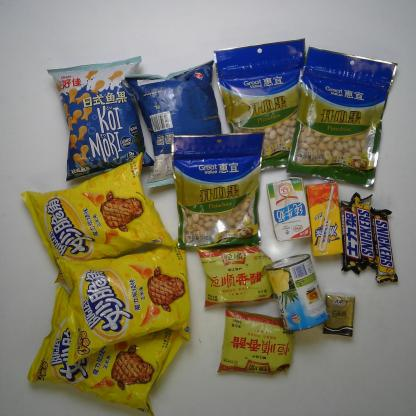Canned Food: (265, 254, 330, 332)
Chocolate: (368, 207, 400, 283), (352, 192, 378, 271), (340, 200, 361, 275)
Dried Fruit: (286, 46, 399, 189), (212, 39, 319, 176), (172, 132, 266, 249)
Drink: (304, 183, 343, 258)
Milk: (268, 177, 312, 242)
Puffed Food: (21, 152, 177, 284), (27, 287, 188, 413), (58, 234, 192, 365), (47, 56, 156, 181), (125, 60, 226, 188)
Seasoner: (216, 308, 294, 376), (198, 244, 278, 308)
Tissue: (323, 292, 355, 337)
